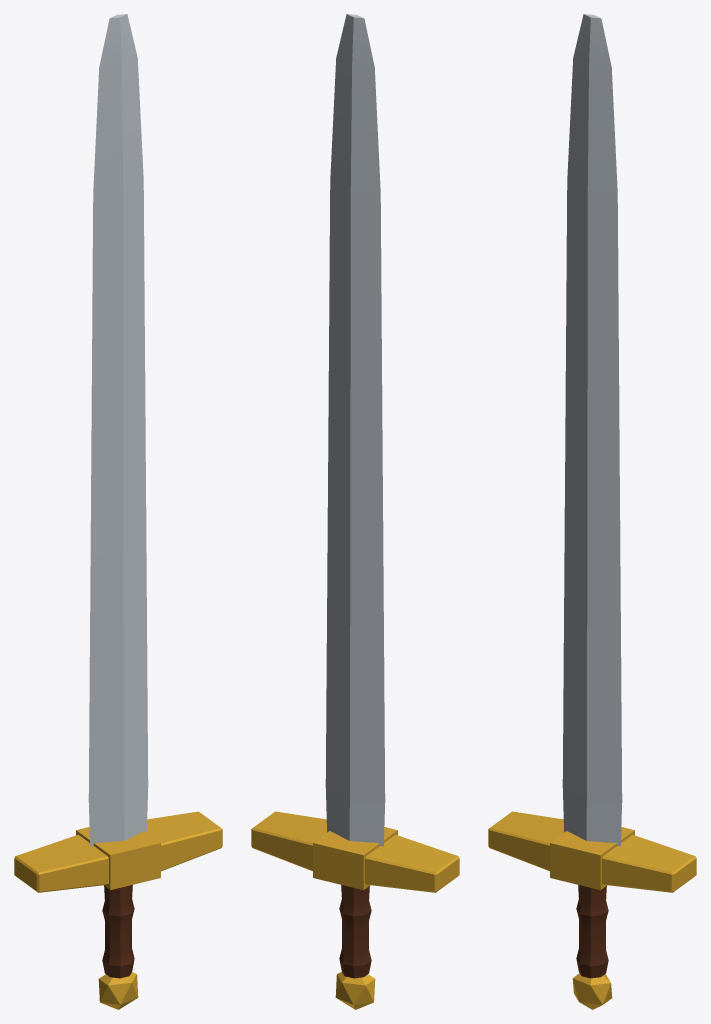
The model's file is wpn_sword.glb.
3 renders of one model, left to right at view 1: azimuth 30°, elevation 25°; view 2: azimuth 150°, elevation 25°; view 3: azimuth 330°, elevation 25°, orthographic.
Parts seen in each view (by area): view 1: wpn_sword_lod0; view 2: wpn_sword_lod0; view 3: wpn_sword_lod0.
Part boxes in pixels (<box>): wpn_sword_lod0: <box>14,14,222,1009</box>; wpn_sword_lod0: <box>251,14,459,1009</box>; wpn_sword_lod0: <box>488,14,696,1009</box>.
Bounding box in the file's own units: 0.25 × 1.28 × 0.08.
